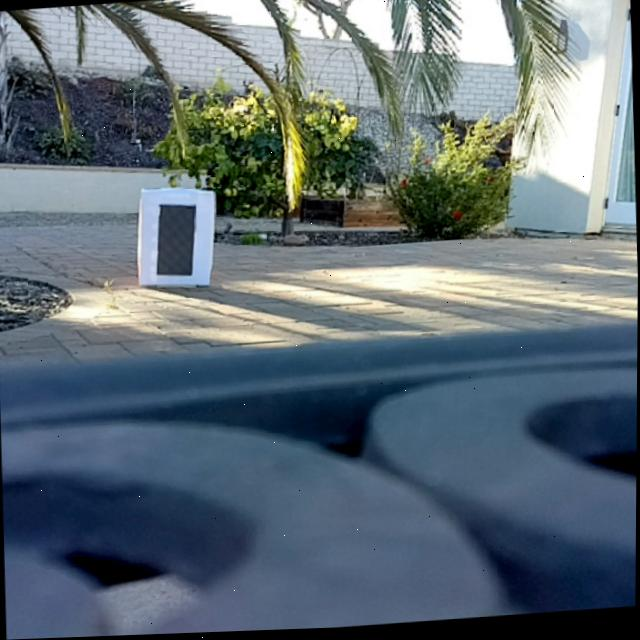led: (159, 202, 201, 286)
